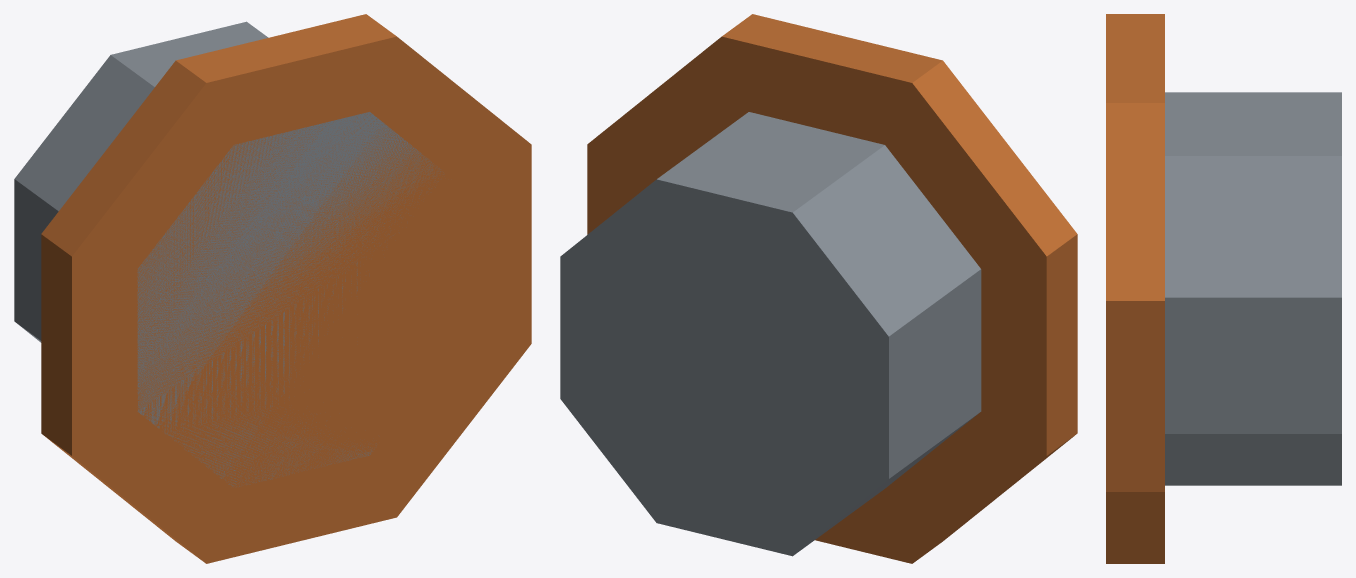
The model's file is port_fluid.obj.
3 renders of one model, left to right at view 1: azimuth 30°, elevation 25°; view 2: azimuth 150°, elevation 25°; view 3: azimuth 270°, elevation 25°, orthographic. The views are drawn at different scales.
Visible parts, largest first — view 1: Port; view 2: Port; view 3: Port.
Part boxes in pixels (x1=…): Port: x1=14, y1=14, x2=531, y2=563; Port: x1=560, y1=14, x2=1077, y2=563; Port: x1=1106, y1=14, x2=1341, y2=563.
Size of the model in its own units: 0.2586 by 0.2586 by 0.12.
